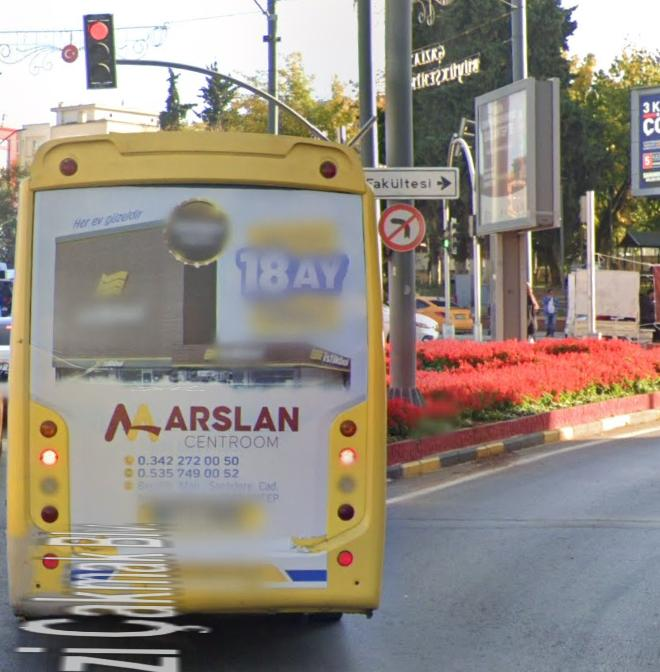leftturnsareforbidden: (379, 206, 423, 246)
redlight: (84, 13, 115, 84)
